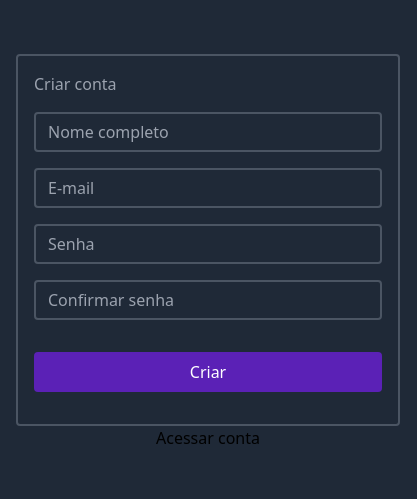
Test: SignUp Page › should be able to render loading text in button
The image size is (417, 499).
Step 1. Click the button "Criar" → (208, 372), box [34,352,382,392]
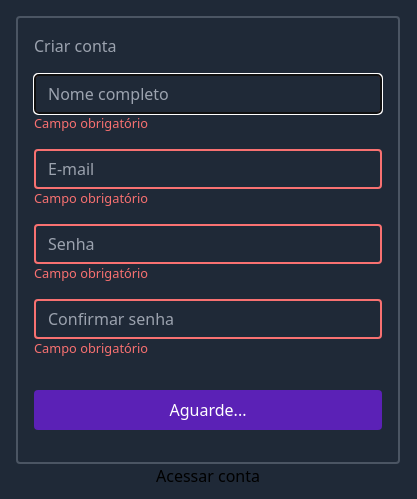
Check: the button "Aguarde..." is shown, box [34,390,382,430]
